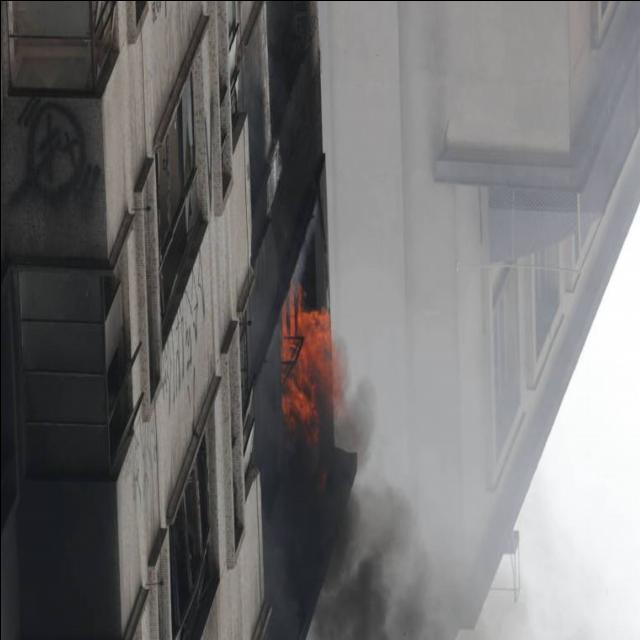Fire: (276, 284, 338, 446)
